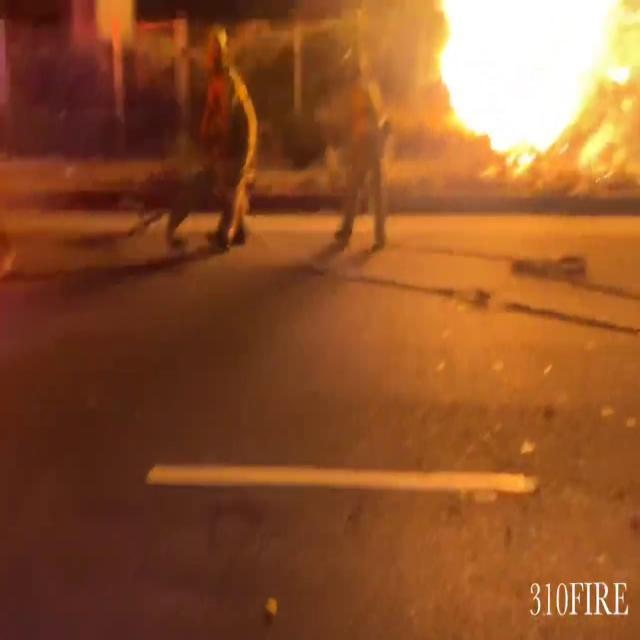Fire: (391, 0, 640, 176)
